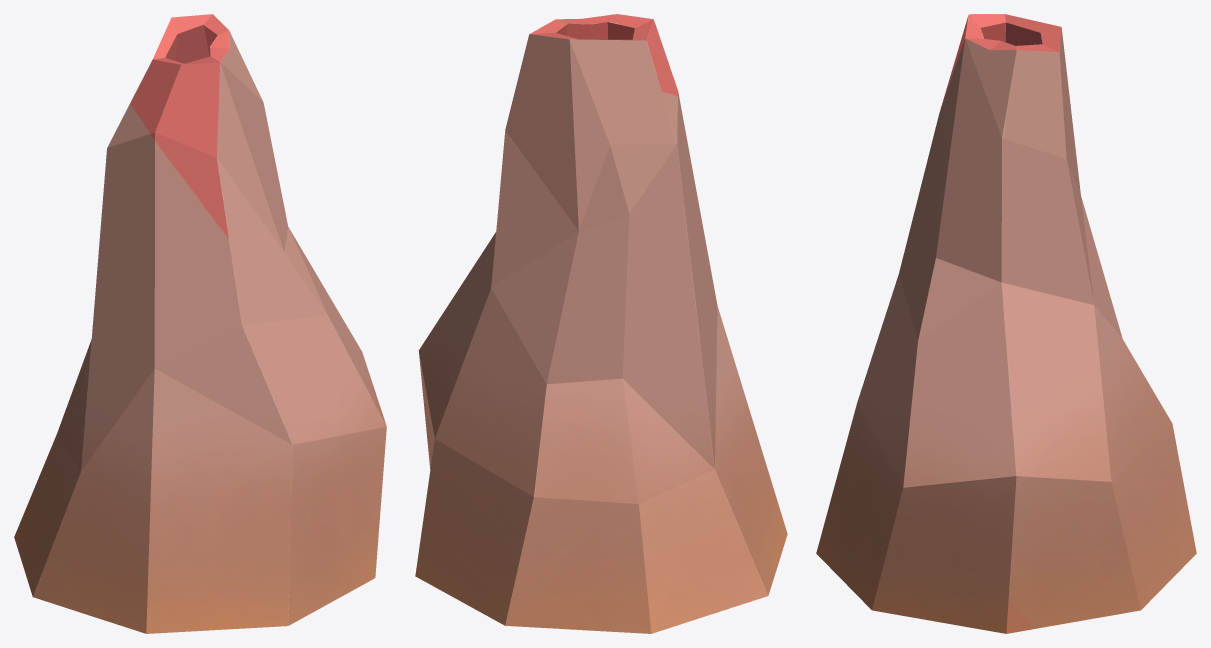
The model's file is vulcao-1.fbx.
3 views of the same model, side by side, from view 1: azimuth 30°, elevation 25°; view 2: azimuth 150°, elevation 25°; view 3: azimuth 270°, elevation 25° (orthographic). The views are drawn at different scales.
Visible parts, largest first — view 1: vulcao-1; view 2: vulcao-1; view 3: vulcao-1.
Part boxes in pixels (x1=…): vulcao-1: x1=14, y1=14, x2=386, y2=633; vulcao-1: x1=415, y1=14, x2=787, y2=633; vulcao-1: x1=816, y1=14, x2=1196, y2=633.
Size of the model in its own units: 402 by 597 by 390.
